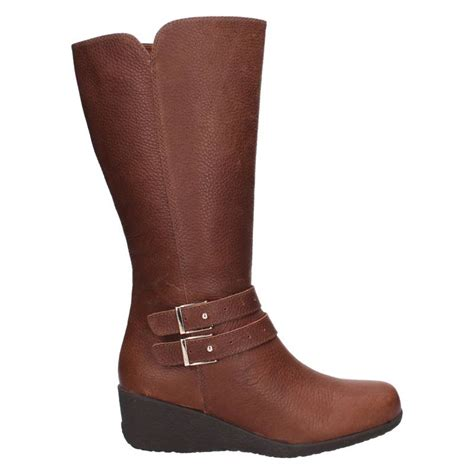cuero: (72, 15, 402, 445)
